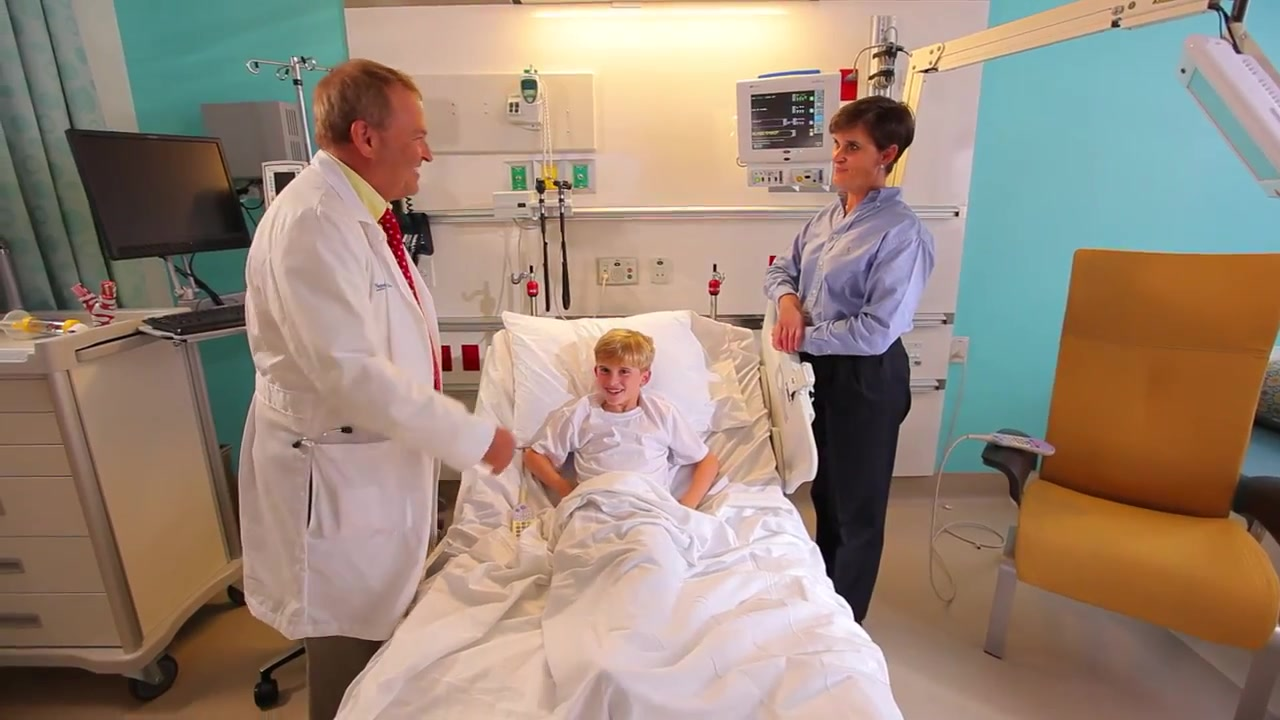bedrail: (759, 296, 818, 496)
bedside_monitor: (1182, 31, 1280, 198), (735, 72, 842, 162)
chair: (981, 248, 1280, 720)
computer: (56, 123, 253, 262)
curtain: (1, 1, 140, 314)
handle: (1, 605, 43, 637)
hospital_bed: (332, 310, 902, 720)
iv_pole: (246, 54, 331, 164), (512, 266, 539, 318), (709, 264, 726, 320)
keyboard: (143, 302, 244, 337)
medical_drawer: (1, 305, 230, 701)
patient: (523, 328, 721, 682)
staff: (241, 57, 515, 720)
visitor: (764, 95, 935, 628)
